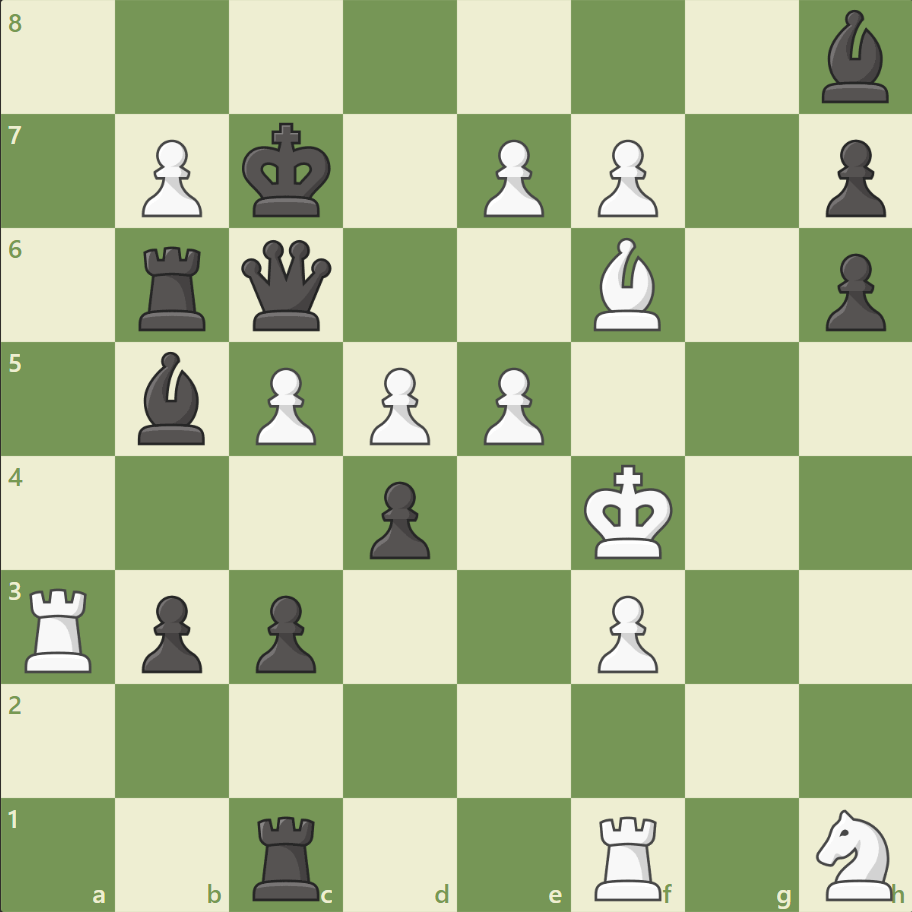B: (585, 233, 669, 336)
K: (579, 458, 679, 566)
N: (806, 802, 903, 904)
P: (133, 132, 208, 223), (474, 132, 549, 223), (247, 359, 322, 450), (474, 359, 549, 450), (588, 132, 662, 223), (361, 359, 435, 450), (588, 586, 662, 677)
R: (587, 806, 670, 904), (19, 579, 102, 676)
b: (812, 6, 896, 109), (131, 347, 215, 449)
k: (238, 117, 338, 225)
p: (133, 586, 208, 677), (247, 586, 322, 677), (815, 132, 889, 223), (815, 246, 889, 337), (361, 473, 435, 564)
q: (237, 236, 336, 335)
r: (246, 806, 329, 904), (133, 239, 215, 336)
